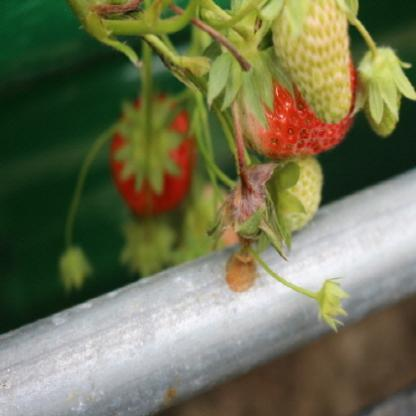Strawberry_Gray_Mold: (217, 149, 288, 262)
